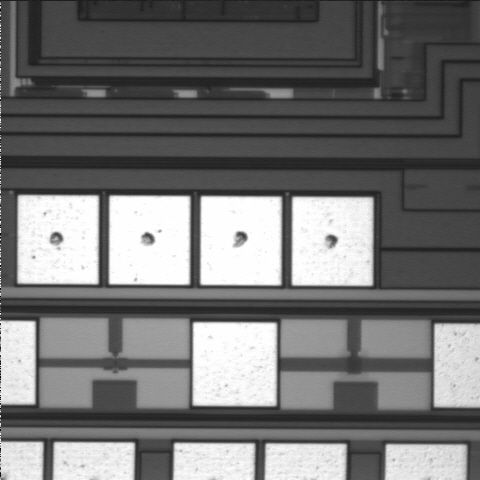pad: (200, 196, 282, 285), (18, 195, 99, 284), (109, 196, 190, 285), (292, 197, 373, 286), (193, 322, 277, 406)
